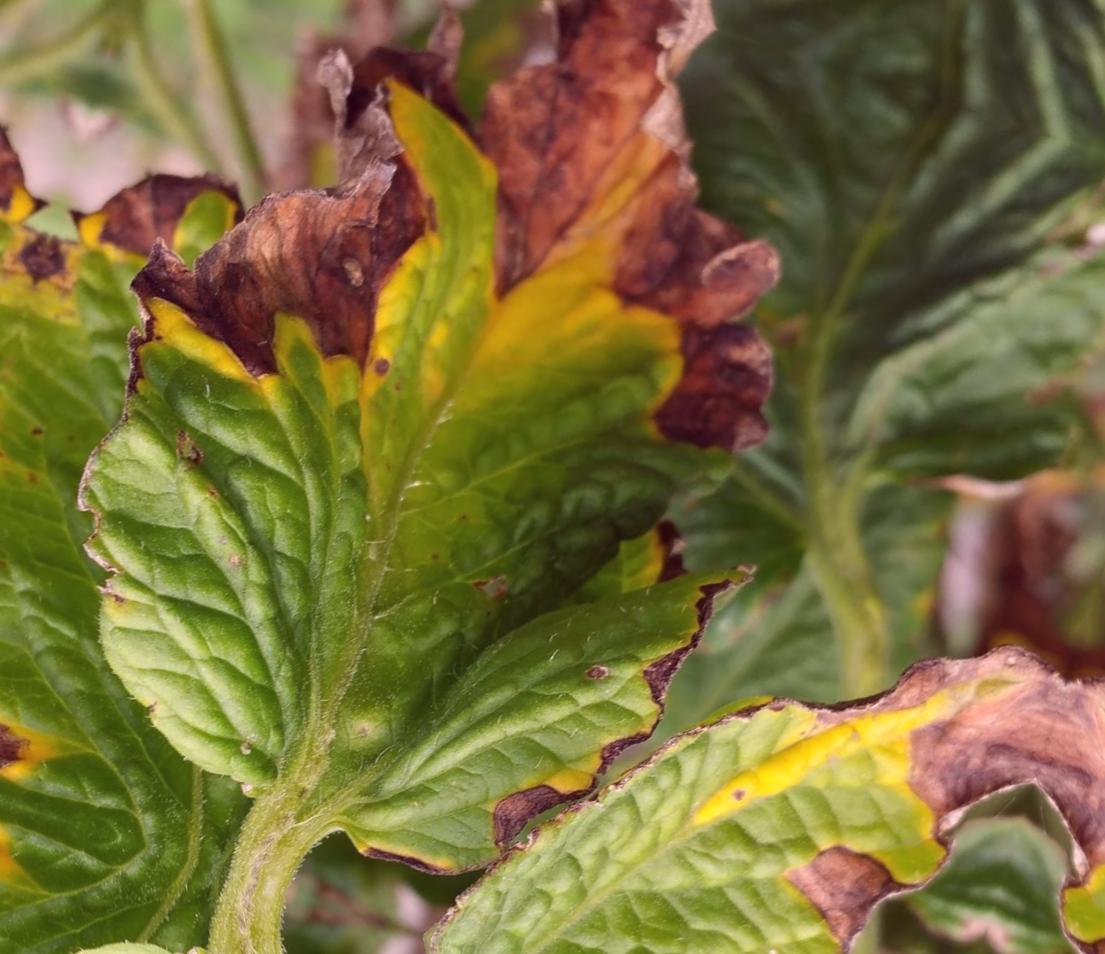Tomato leaf bacterial spot: (0, 0, 870, 954), (0, 118, 485, 890), (362, 463, 1079, 954)
